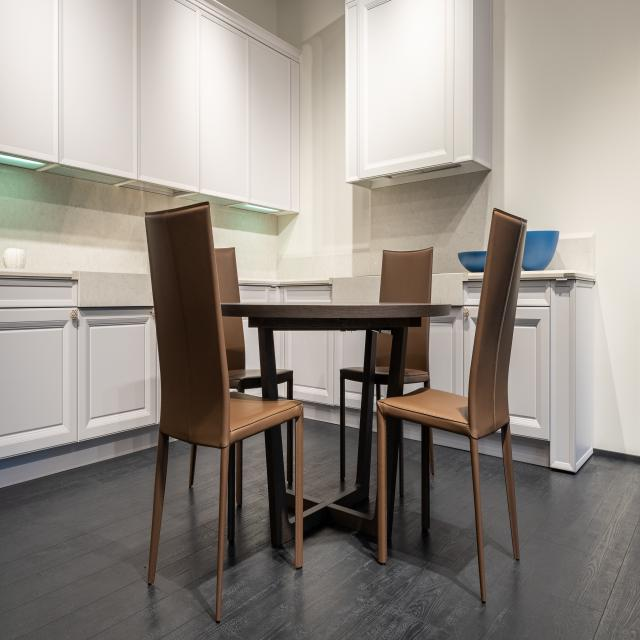floor: (0, 424, 640, 640), (303, 417, 359, 501), (345, 432, 377, 514), (280, 418, 295, 491)
wall: (371, 0, 640, 464), (276, 0, 371, 282), (345, 0, 473, 182), (0, 163, 202, 274), (209, 202, 277, 282), (472, 0, 493, 171), (214, 0, 276, 37)
